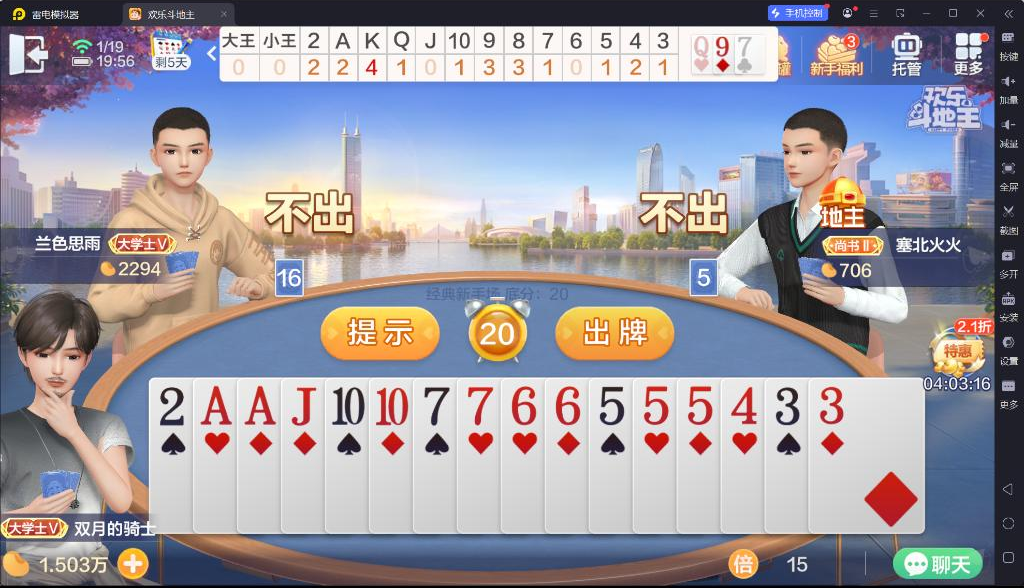A: (243, 383, 277, 427), (199, 384, 233, 427)
J: (289, 384, 317, 427)
Q: (693, 35, 710, 59)
five: (639, 384, 673, 427), (595, 384, 628, 428), (685, 383, 716, 427)
four: (728, 384, 760, 427)
nine: (714, 36, 730, 58)
seven: (420, 384, 452, 427), (463, 384, 494, 427), (736, 35, 753, 57)
six: (553, 384, 583, 427), (509, 384, 539, 426)
ten: (373, 383, 409, 429), (330, 383, 367, 427)
three: (772, 384, 802, 427), (816, 384, 846, 426)
two: (157, 387, 188, 430)
